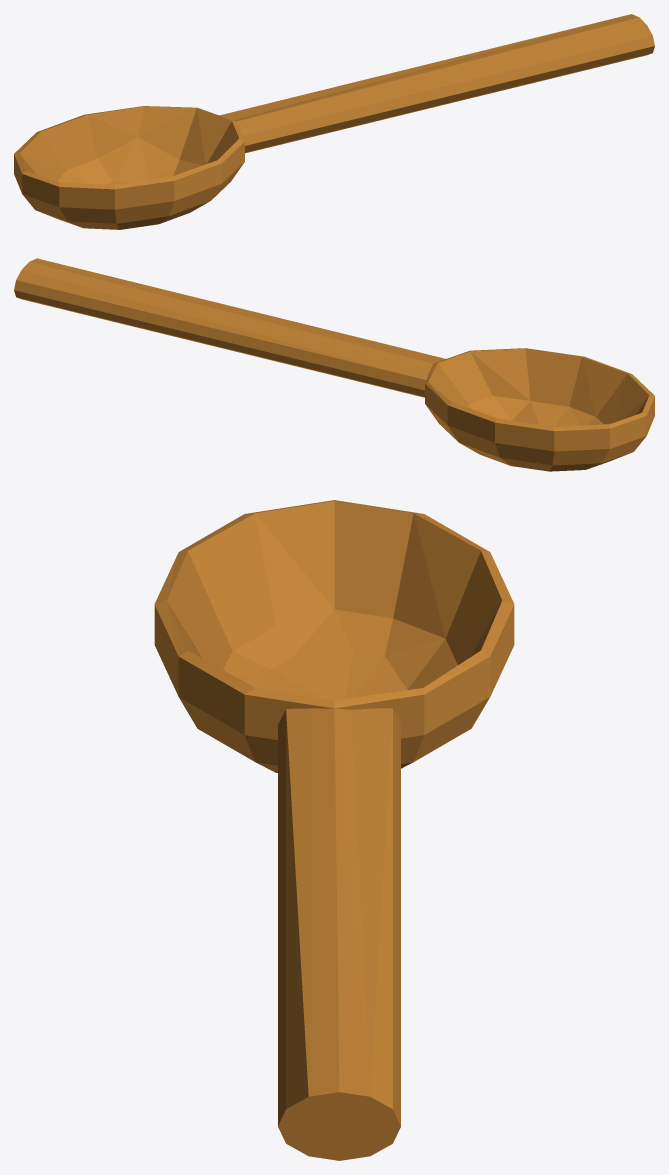
The model's file is spoon.dae.
3 views of the same model, one above another, from view 1: azimuth 30°, elevation 25°; view 2: azimuth 150°, elevation 25°; view 3: azimuth 270°, elevation 25° (orthographic). The views are drawn at different scales.
Visible parts, largest first — view 1: mesh1965755250, mesh499482830; view 2: mesh1965755250, mesh499482830; view 3: mesh1965755250, mesh499482830.
Part boxes in pixels (bbox=[...]): mesh1965755250: bbox=[14, 106, 244, 229]; mesh499482830: bbox=[220, 14, 654, 153]; mesh1965755250: bbox=[425, 348, 654, 471]; mesh499482830: bbox=[14, 258, 445, 397]; mesh1965755250: bbox=[154, 500, 514, 772]; mesh499482830: bbox=[278, 708, 400, 1160].
Bounding box in the file's own units: 1.5 × 0.3795 × 0.17.
